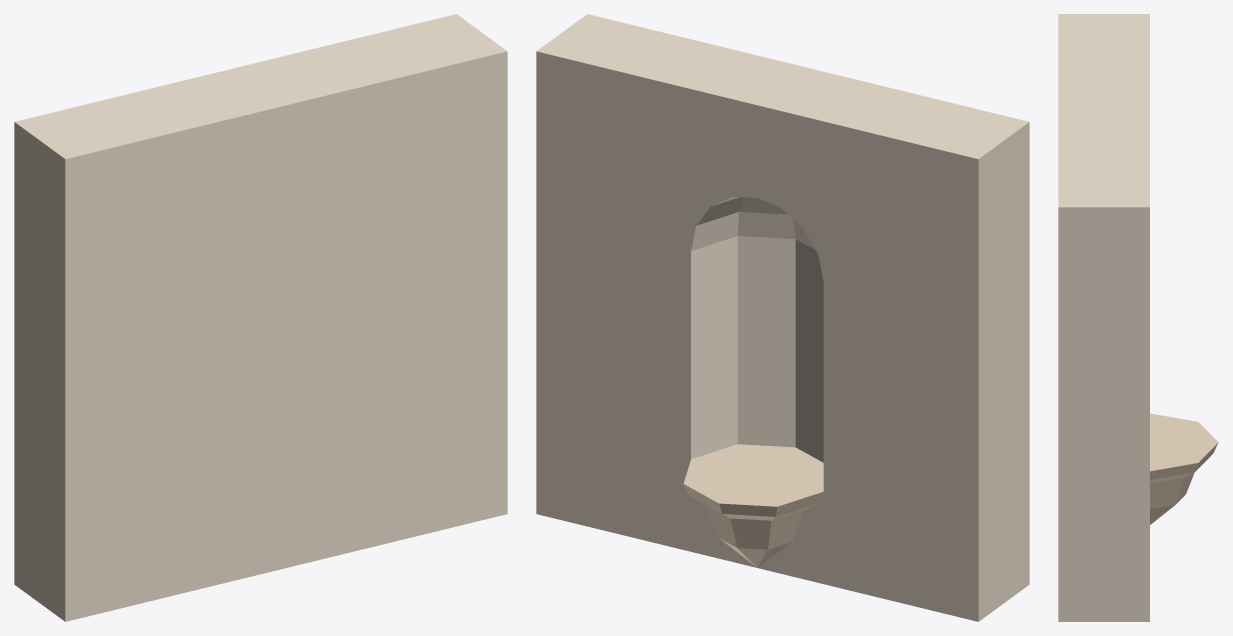
The model's file is Wall_Straight_Cubby.glb.
3 views of the same model, side by side, from view 1: azimuth 30°, elevation 25°; view 2: azimuth 150°, elevation 25°; view 3: azimuth 270°, elevation 25° (orthographic). The views are drawn at different scales.
Parts seen in each view (by area): view 1: Wall_Straight_Cubby; view 2: Wall_Straight_Cubby; view 3: Wall_Straight_Cubby.
Boxes of the visible parts, x1,y1,x2,y2 form: Wall_Straight_Cubby: [14, 14, 507, 621]; Wall_Straight_Cubby: [536, 14, 1029, 621]; Wall_Straight_Cubby: [1058, 14, 1218, 621].
Size of the model in its own units: 0.45 by 0.45 by 0.1575.
